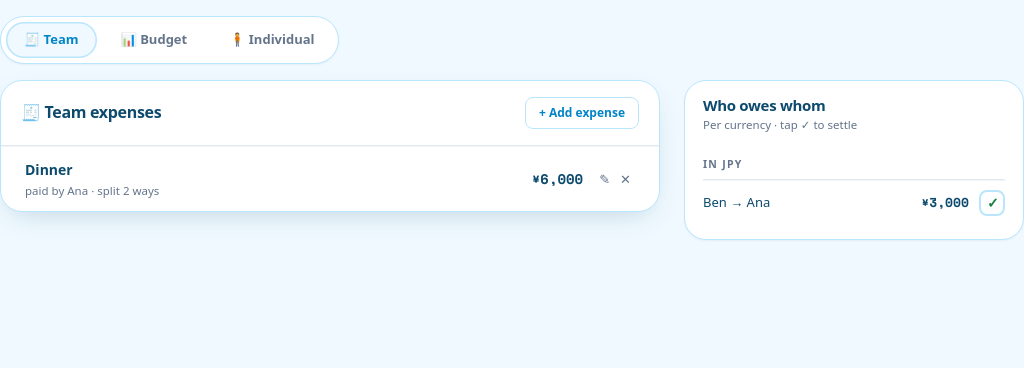
Scenario: Finance › renders the Budget view when the Budget tab is selected
Click the tab "📊 Budget" at (154, 40), box x1=102 y1=22 x2=205 y2=58
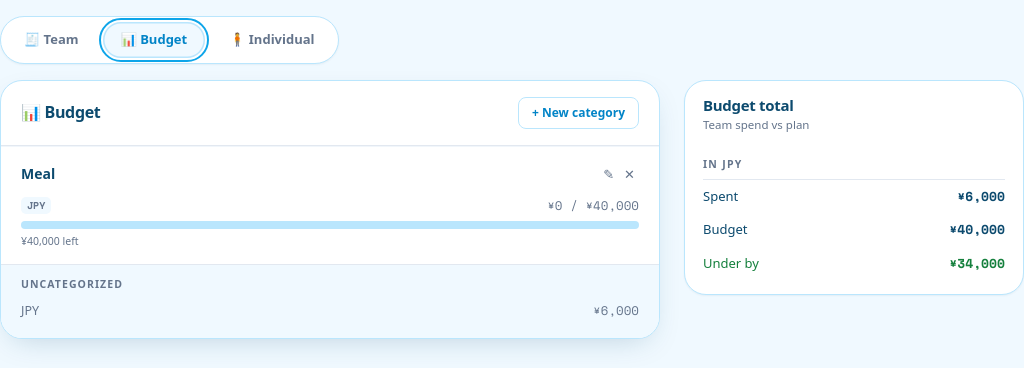
Check: the text "Meal" is shown, box x1=21 y1=163 x2=55 y2=184
Check: the heading "Budget total" is shown, box x1=703 y1=94 x2=794 y2=114
